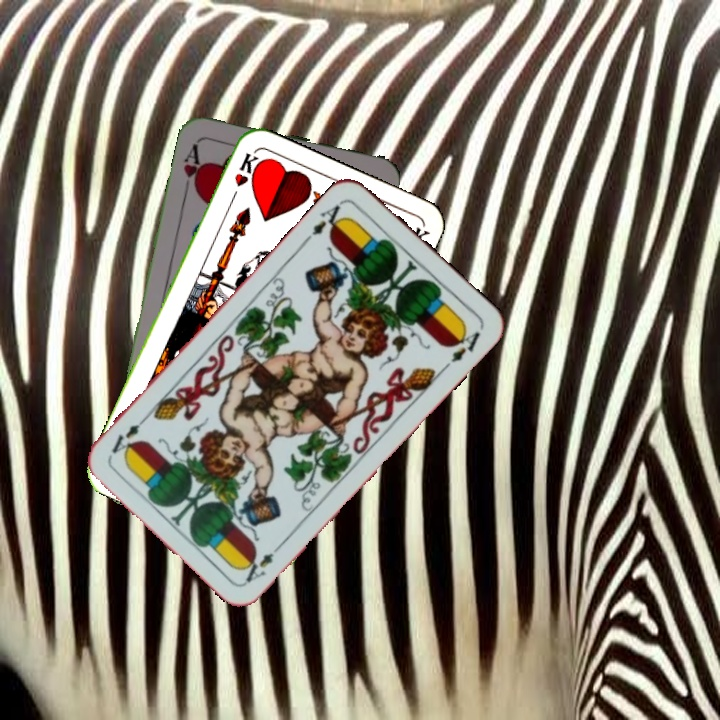EA: (239, 538, 286, 586), (308, 197, 348, 238)
HA: (179, 139, 206, 197)
HK: (226, 149, 262, 206)
